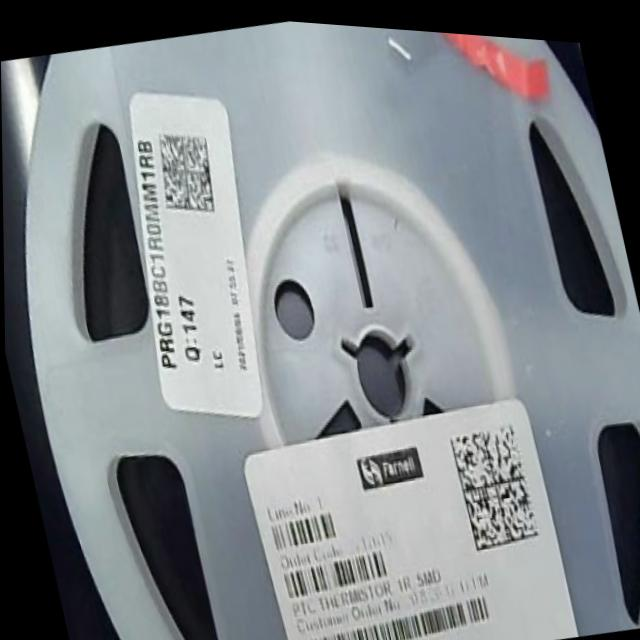datamatrix: (446, 408, 545, 550), (147, 113, 225, 222)
